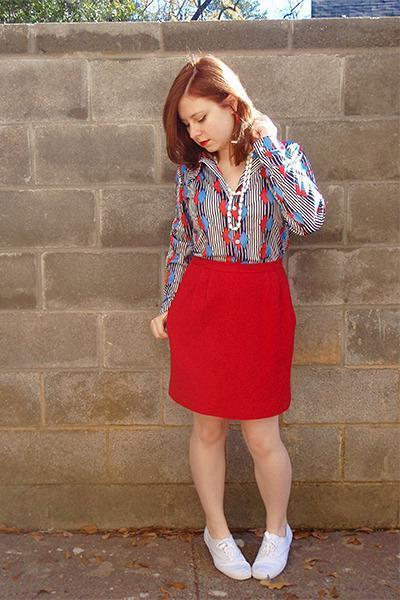long sleeve shirt: (152, 138, 326, 317)
skirt: (161, 258, 298, 427)
